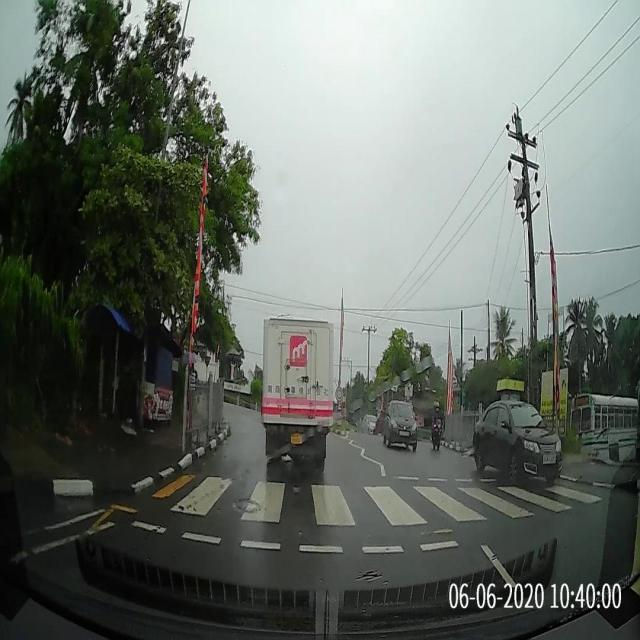Liniya 1: (477, 543, 519, 590)
Perehod: (165, 473, 606, 527)
